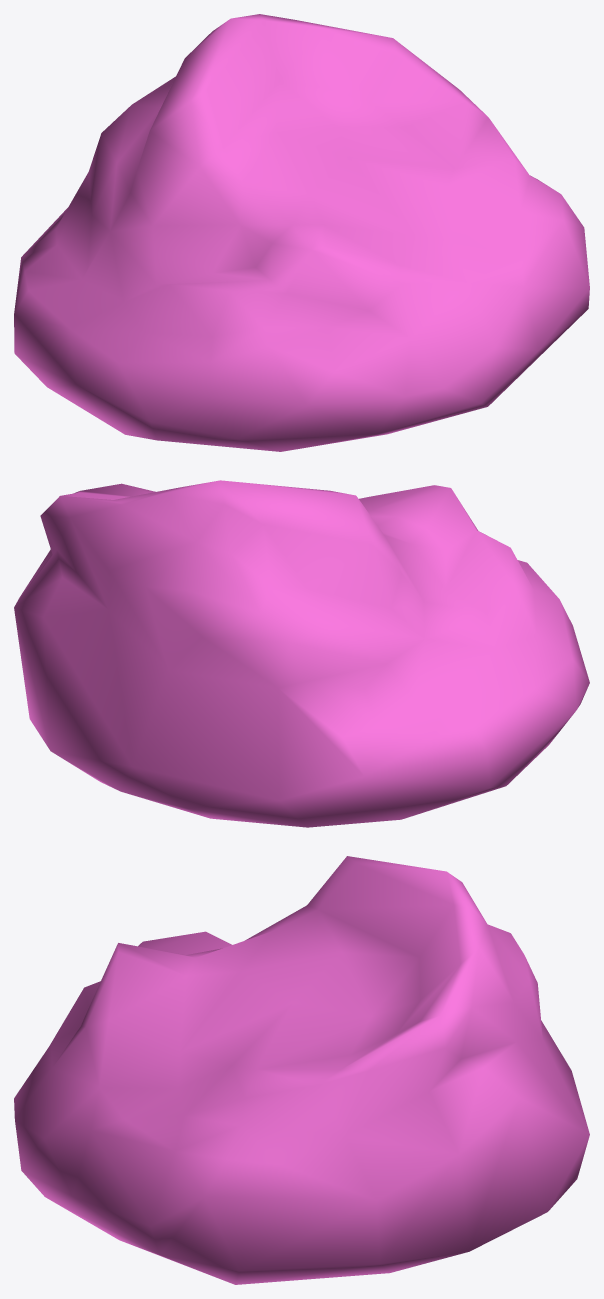
Rendered from Gum - Final.fbx.
The picture shows the model from 3 angles, top to bottom: view 1: azimuth 30°, elevation 25°; view 2: azimuth 150°, elevation 25°; view 3: azimuth 270°, elevation 25°; orthographic projection. The views are drawn at different scales.
Parts seen in each view (by area): view 1: Gum; view 2: Gum; view 3: Gum.
Boxes of the visible parts, x1=… form: Gum: x1=14, y1=14, x2=589, y2=451; Gum: x1=14, y1=480, x2=589, y2=827; Gum: x1=14, y1=856, x2=589, y2=1284.
Bounding box in the file's own units: 357 × 206 × 337.
